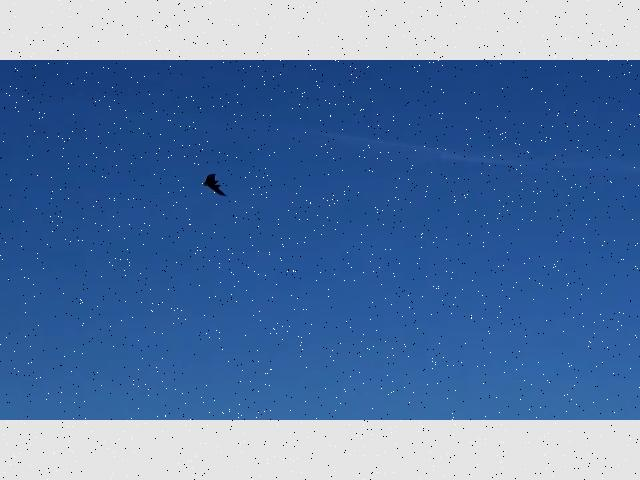Anti-Drone: (198, 166, 230, 204)
